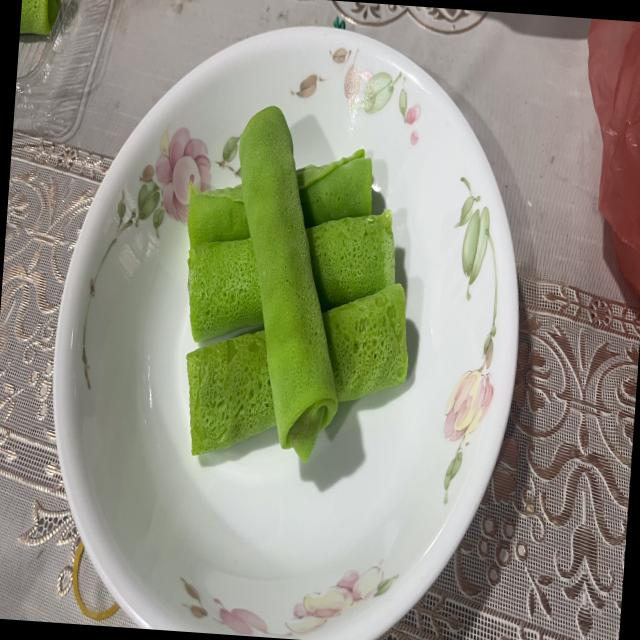Kuih-Ketayap: (239, 105, 337, 462), (186, 331, 275, 454), (323, 283, 408, 402), (306, 209, 395, 311), (187, 237, 263, 341), (295, 149, 372, 228), (187, 185, 250, 247)
